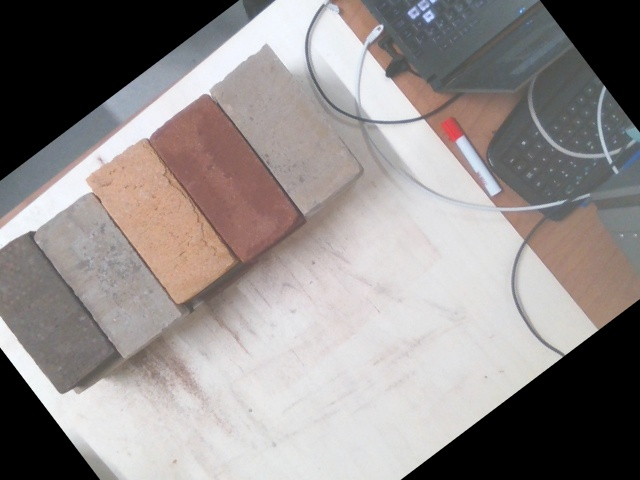brick: (210, 46, 362, 211), (149, 95, 299, 259), (31, 194, 180, 358), (87, 137, 233, 303)
